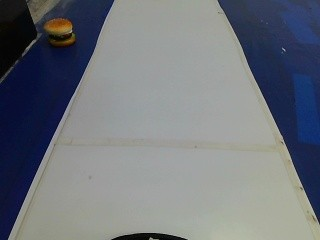burger: (38, 14, 82, 51)
